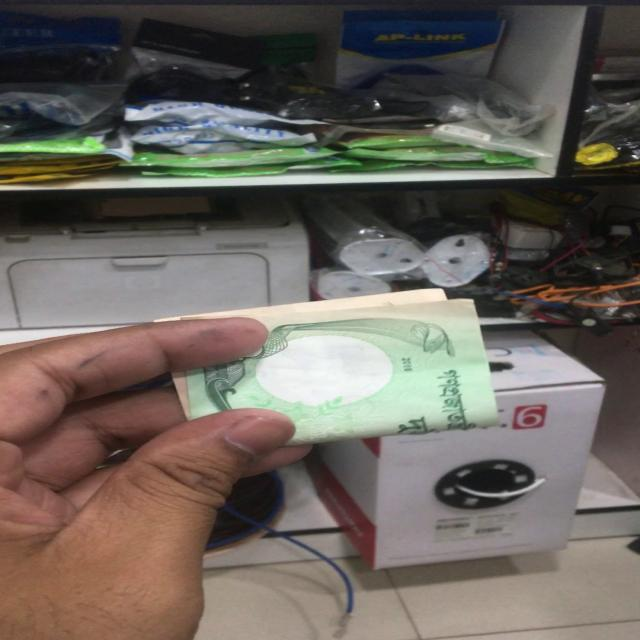Taka: (184, 304, 518, 435)
